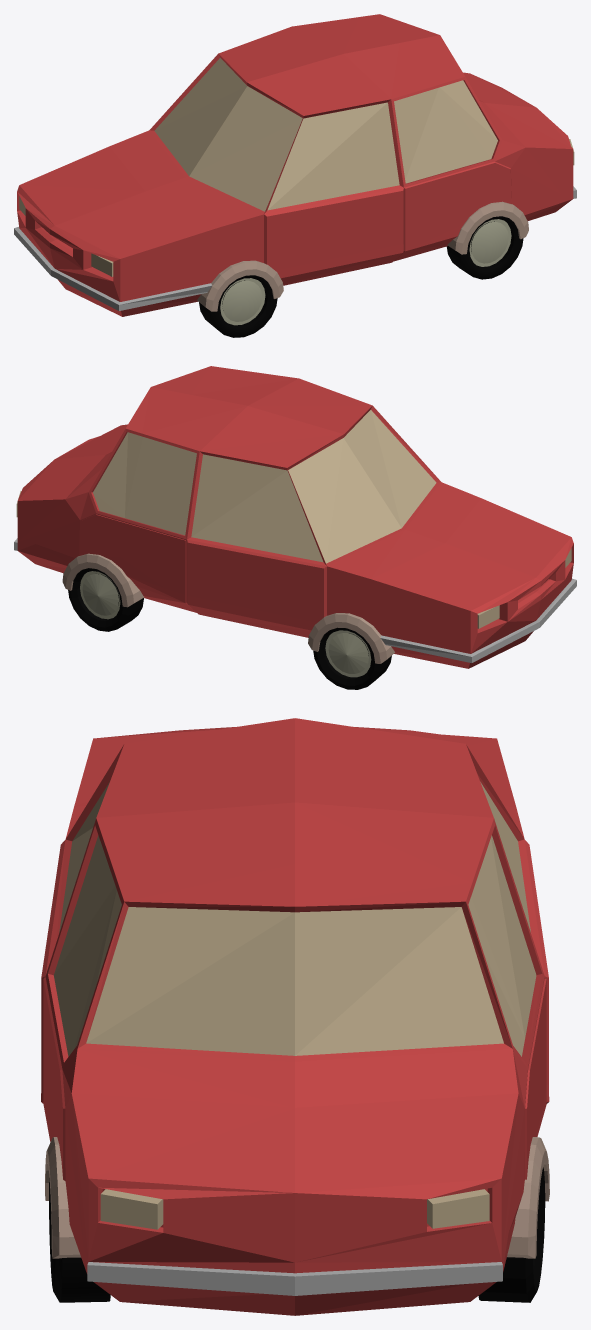
The model's file is carfbx.fbx.
3 renders of one model, top to bottom at view 1: azimuth 30°, elevation 25°; view 2: azimuth 150°, elevation 25°; view 3: azimuth 270°, elevation 25°, orthographic. The views are drawn at different scales.
Parts seen in each view (by area): view 1: pCube1, pCylinder1 (×2), pCylinder2 (×2); view 2: pCube1, pCylinder1 (×2), pCylinder2 (×2); view 3: pCube1, pCylinder2 (×2), pCylinder1 (×2).
Part boxes in pixels (left/top/right/bottom): pCube1: left=14, top=14, right=576, bottom=316; pCylinder1 (×2): left=199, top=216, right=523, bottom=337; pCylinder2 (×2): left=197, top=201, right=528, bottom=311; pCube1: left=14, top=366, right=576, bottom=668; pCylinder1 (×2): left=68, top=568, right=391, bottom=689; pCylinder2 (×2): left=62, top=553, right=394, bottom=663; pCube1: left=41, top=718, right=549, bottom=1315; pCylinder2 (×2): left=45, top=1137, right=549, bottom=1258; pCylinder1 (×2): left=49, top=1167, right=545, bottom=1302.
Bounding box in the file's own units: 4.01 × 1.59 × 1.8.
